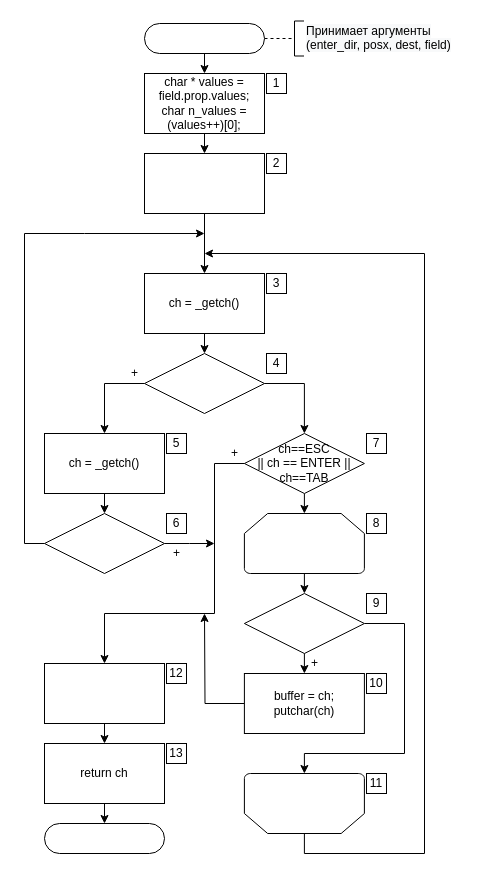
Some shapes in this 491 by 879 pixel diagram are drawn without their labels. The centre of each missing label's shape, as x and y in pixels:
*dest = buffer: (x=104, y=693)
ch == 224: (x=204, y=383)
ch == values[i]: (x=303, y=623)
ch==LEFT || ch==RIGHT: (x=104, y=543)
char buffer = *dest; setCursorPosition (posx, EDITOR_POSY): (x=204, y=183)
конец: (x=104, y=838)
начало read_char: (x=204, y=38)
Цикл i: (x=303, y=803)
Цикл i Пока i < n_values i++: (x=303, y=543)
